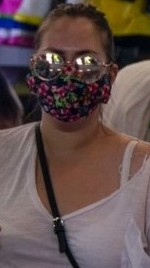with_mask: (28, 17, 120, 121)
